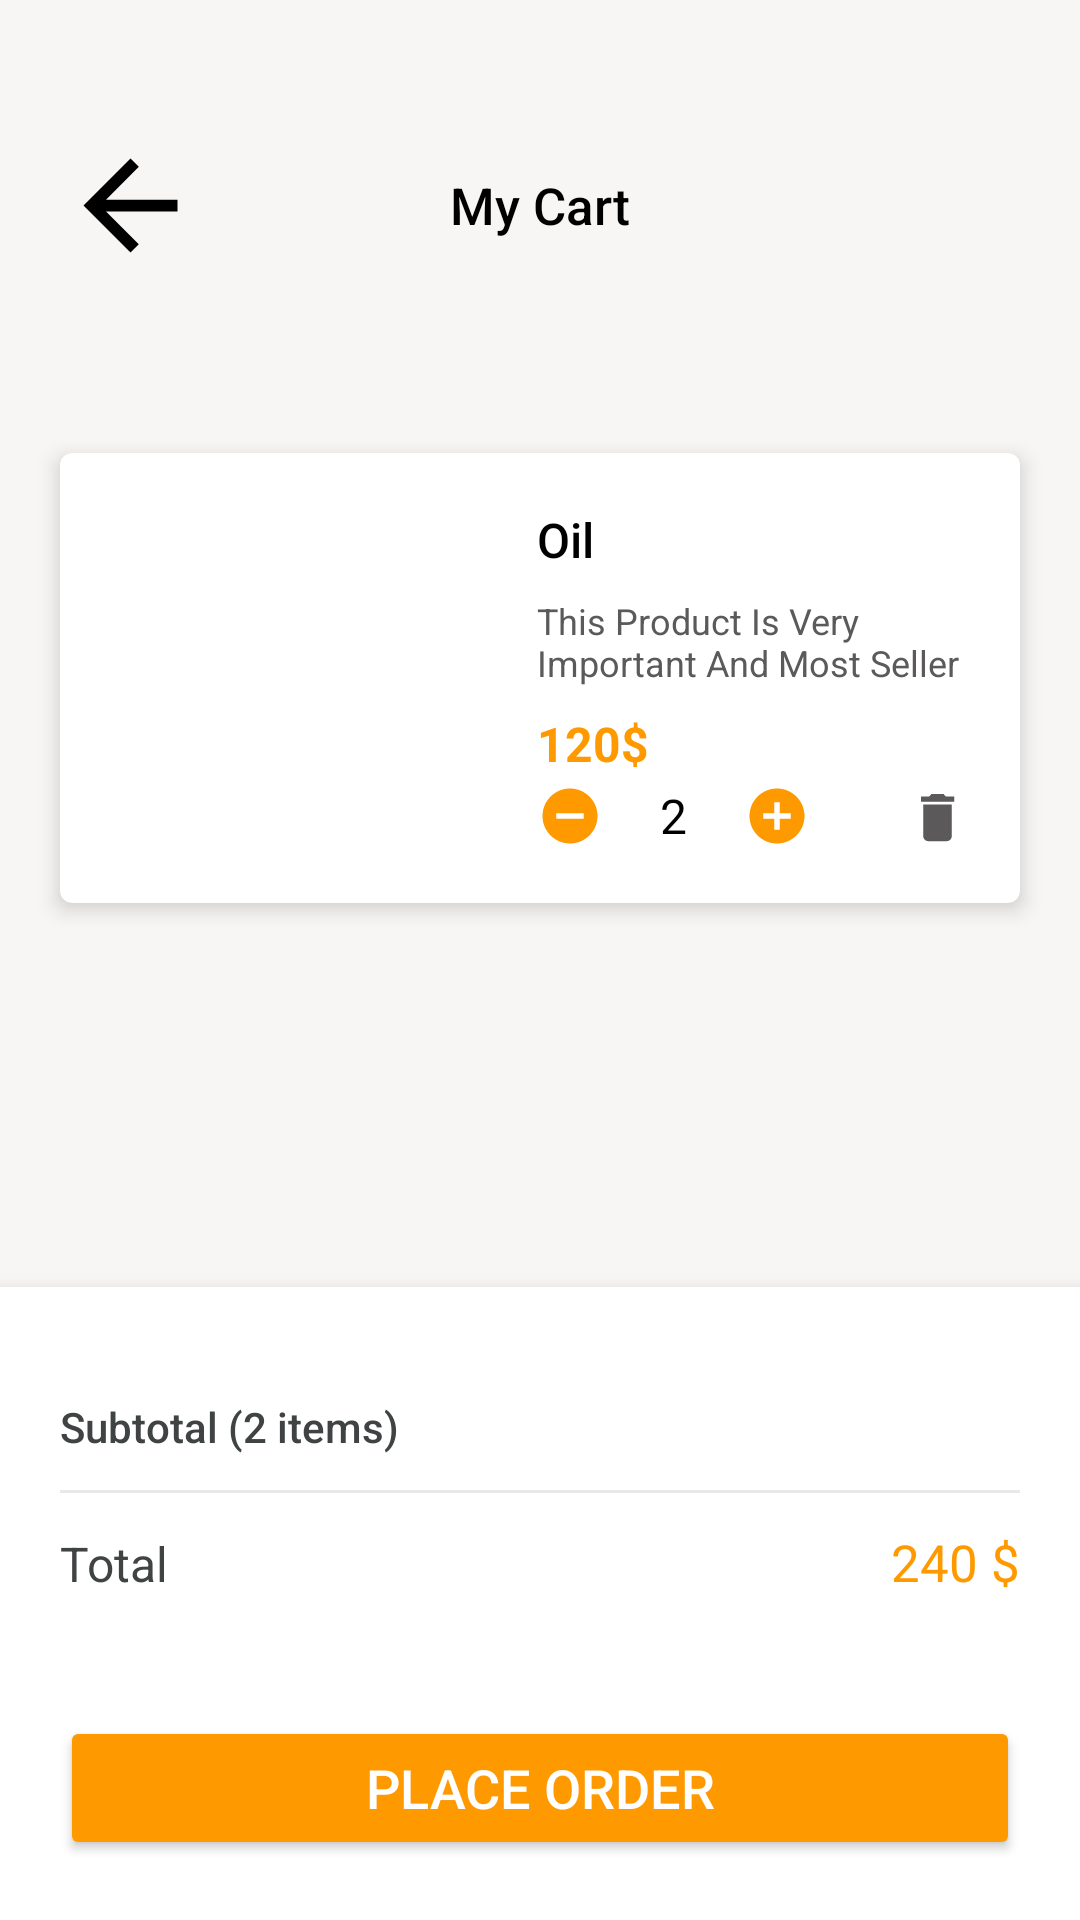

Screen size 1080 x 1920. Icon name, then its center in pixels as (x=x, y=y):
Back: (x=130, y=205)
Decrease quantity: (x=570, y=816)
Delete item: (x=938, y=818)
Increase quantity: (x=777, y=816)
